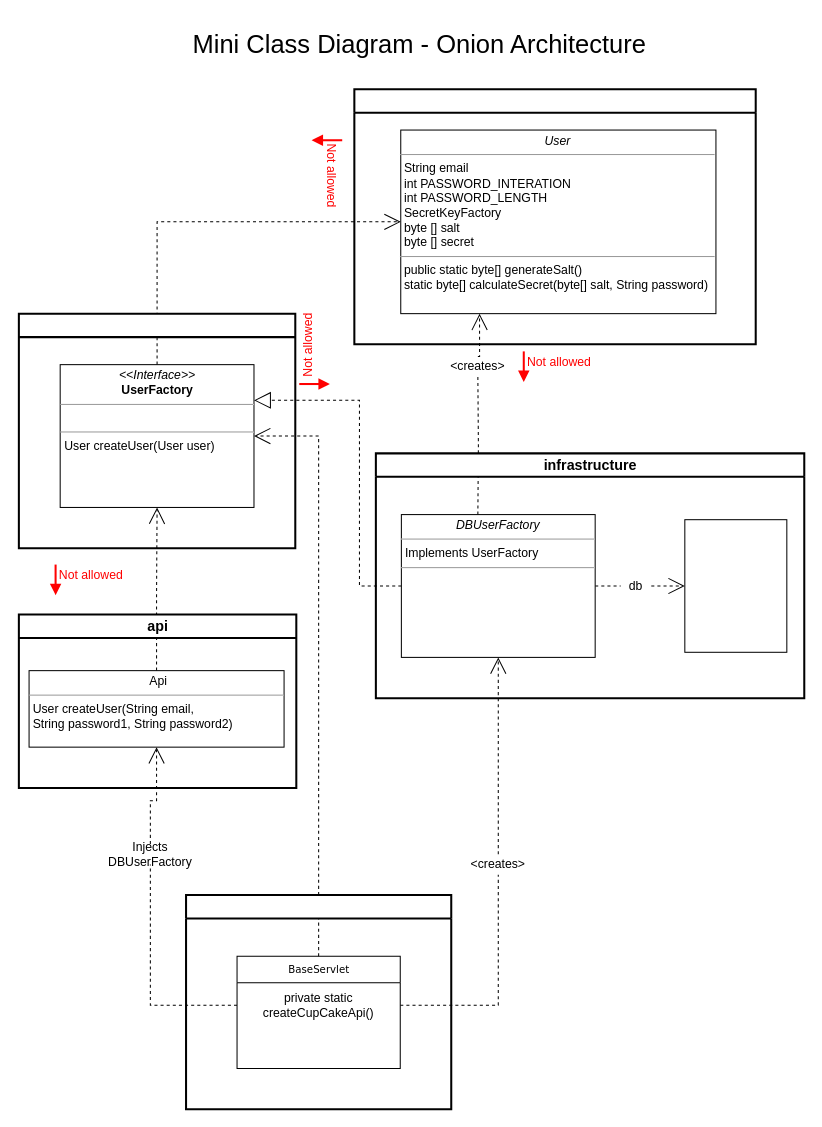
Some shapes in this 822 by 1127 pixel diagram are drawn without their labels. The box of each missing label's shape, as (x1, y1, x2, y2) in pixels:
core: (353, 88, 756, 345)
Database getConnection(): (684, 519, 787, 652)
domain: (17, 312, 296, 549)
entries/UI: (185, 894, 452, 1110)
